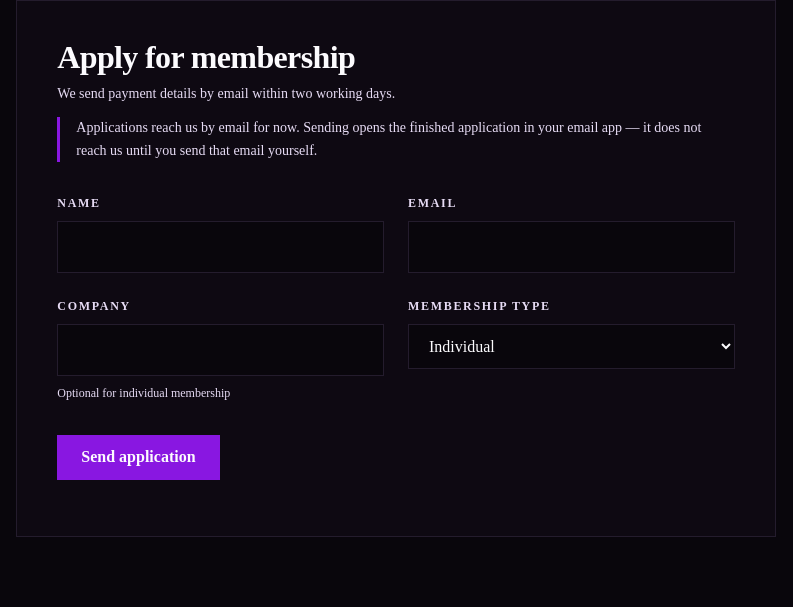
Scenario: MembershipForm (en) › reports what is missing and moves focus to the first offending field
Click the button "Send application" at [138, 457], box [57,435,220,480]
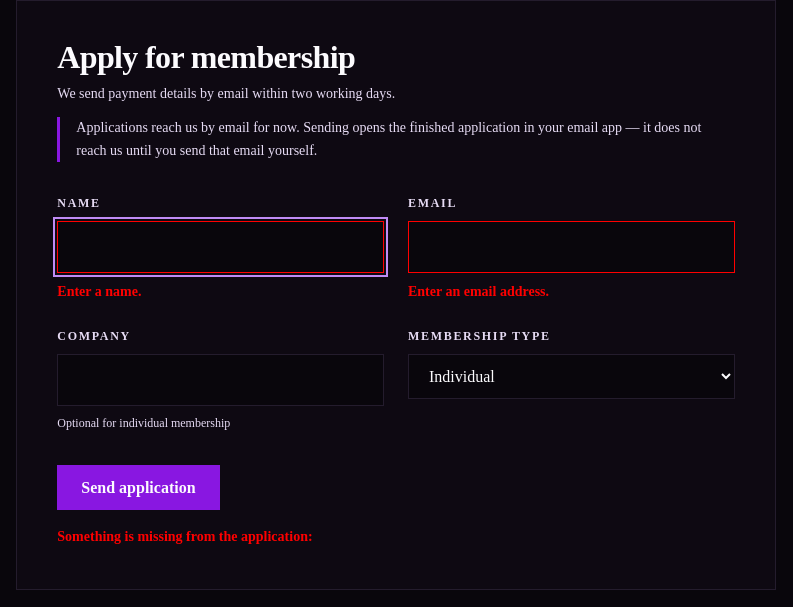
Expected: the text "Enter a name." is shown, [57,284,141,299]
Expected: the text "Enter an email address." is shown, [408,284,549,299]
Expected: the text "Something is missing from the application:" is shown, [57,529,313,544]
